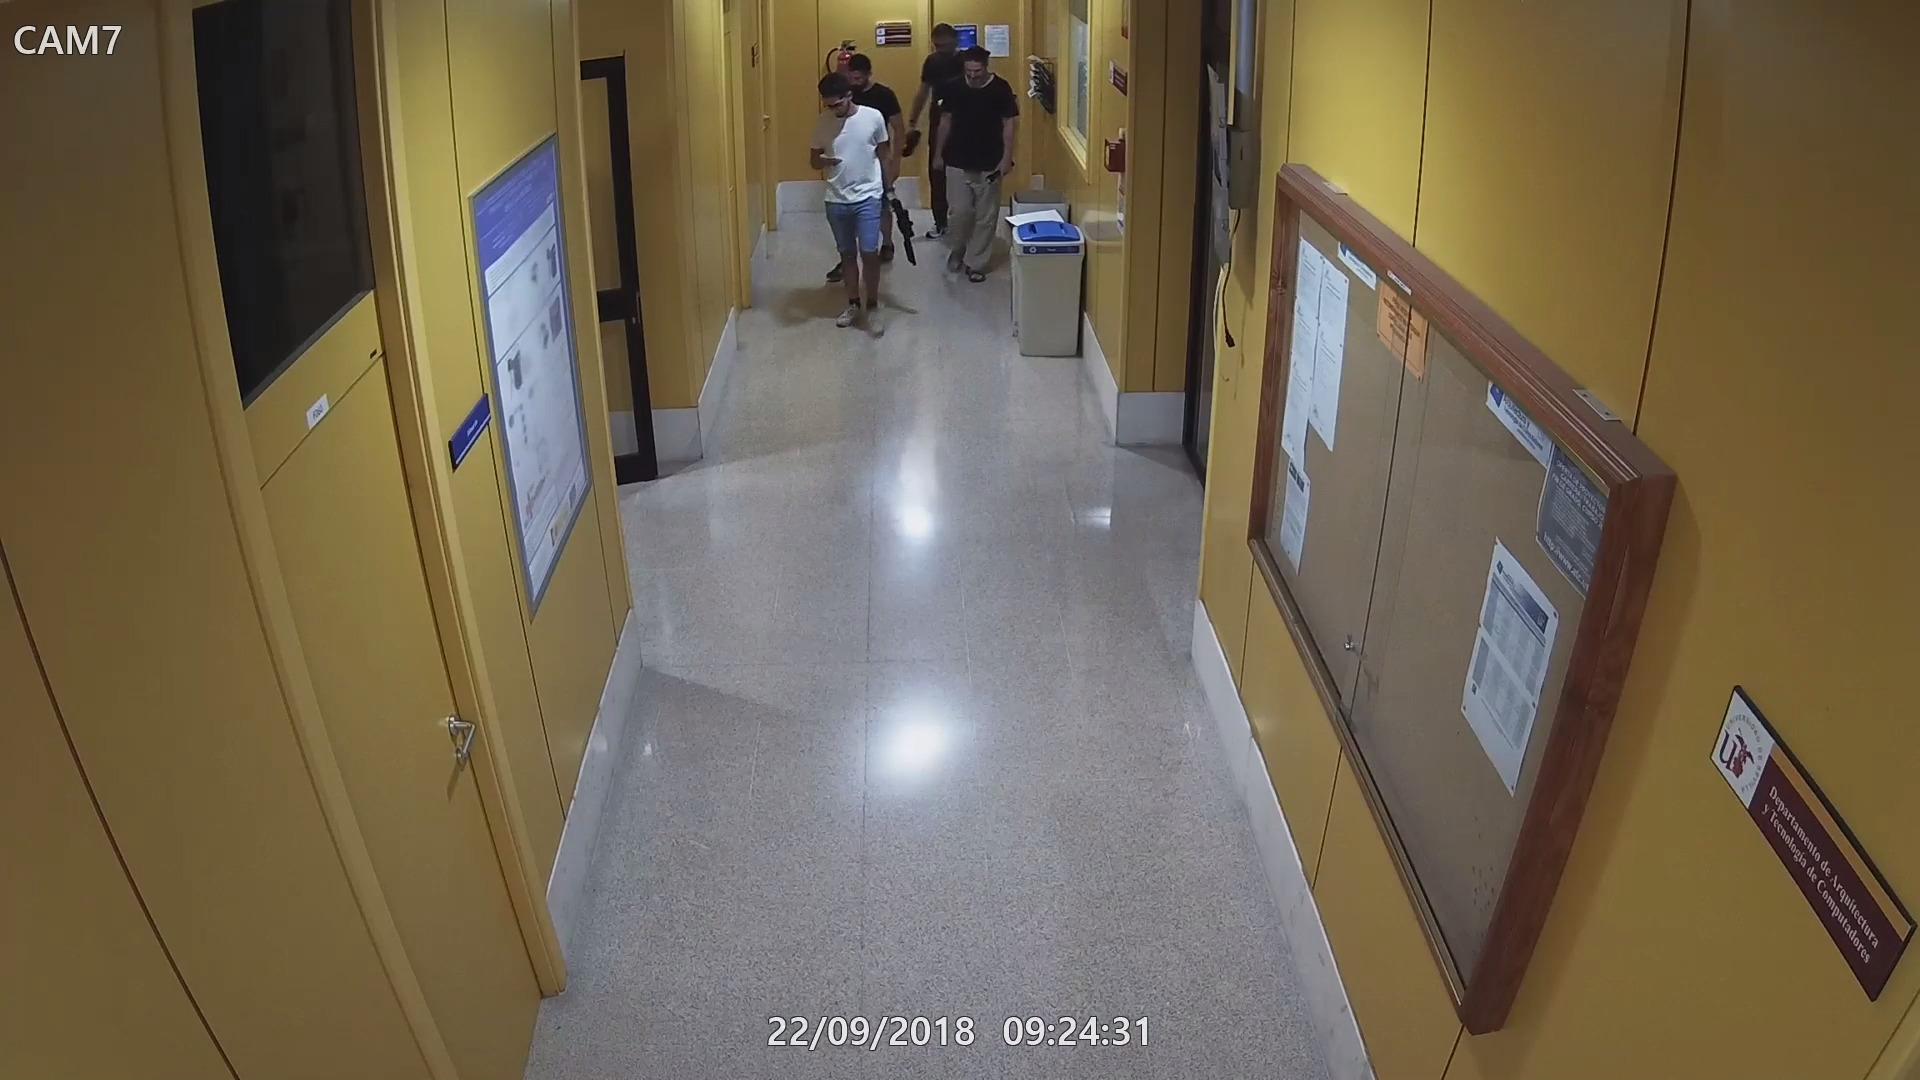Short_rifle: (884, 186, 920, 266), (927, 152, 953, 227)
